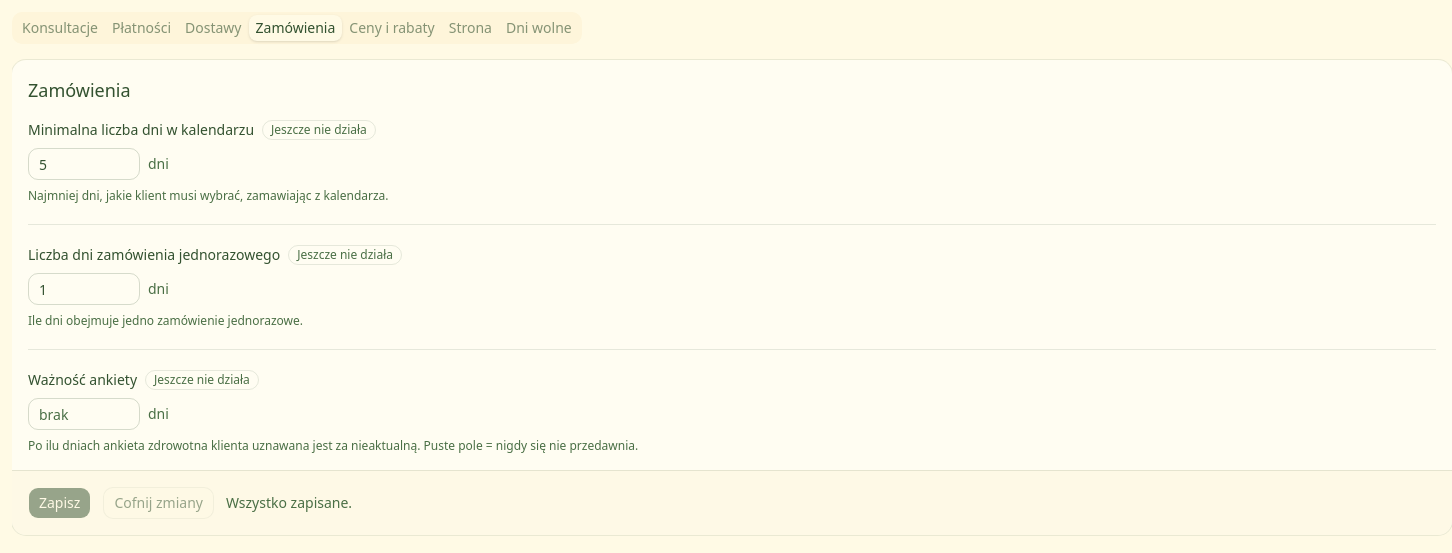
Test: SettingsForm (generated from the registry schema) › Reset puts the section back to the stored values
Replace the text in the field labelled "Minimalna liczba dni w kalendarzu" with "9": (84, 164) [28,148,140,180]
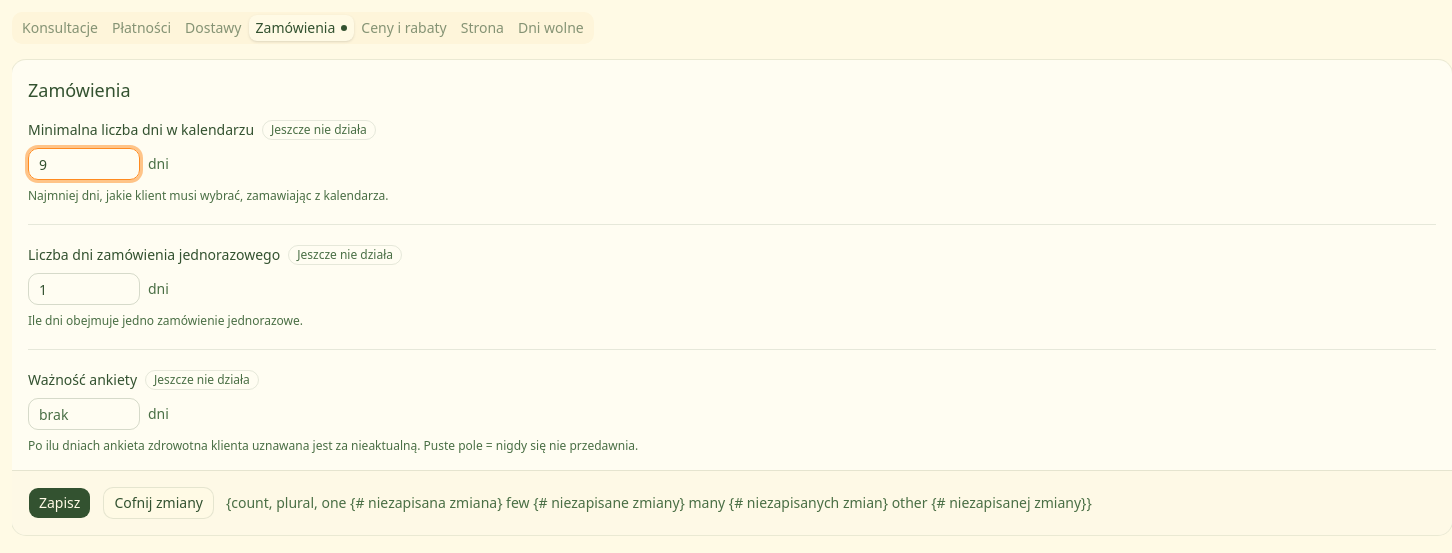
Now the button with test id "settings-reset-ordering" is enabled
Click the button with test id "settings-reset-ordering": (159, 503) [103,487,214,519]
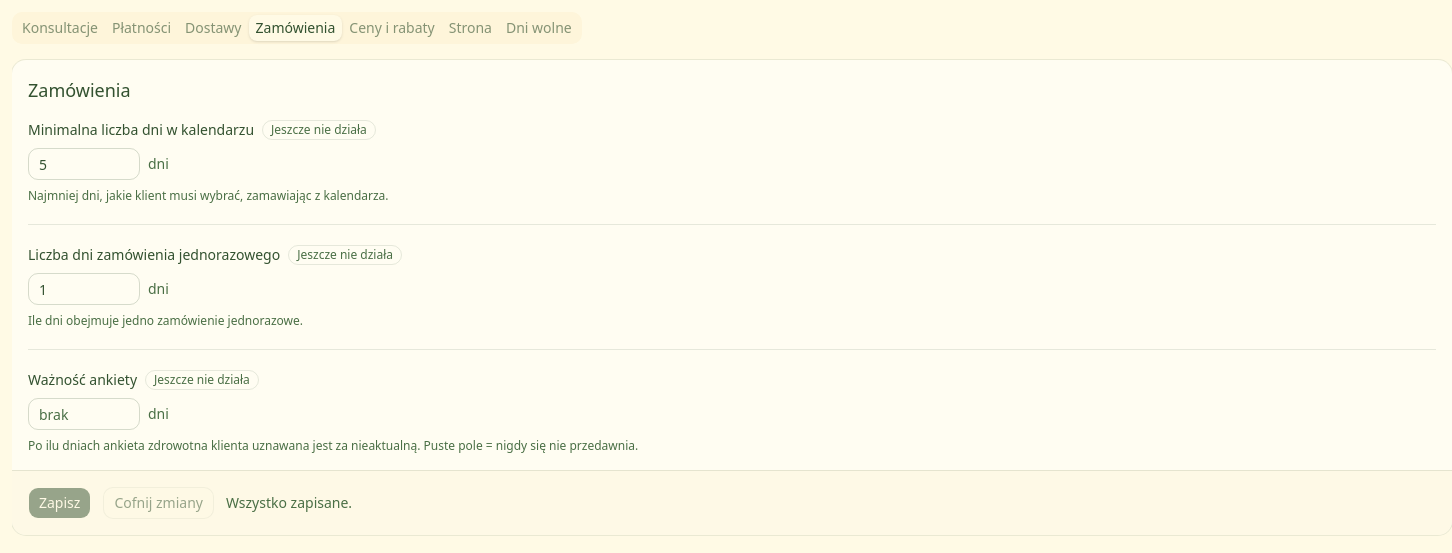
Now the field labelled "Minimalna liczba dni w kalendarzu" holds "5", box [28,148,140,180]
Now the button with test id "settings-save-ordering" is disabled, box [28,487,91,519]
